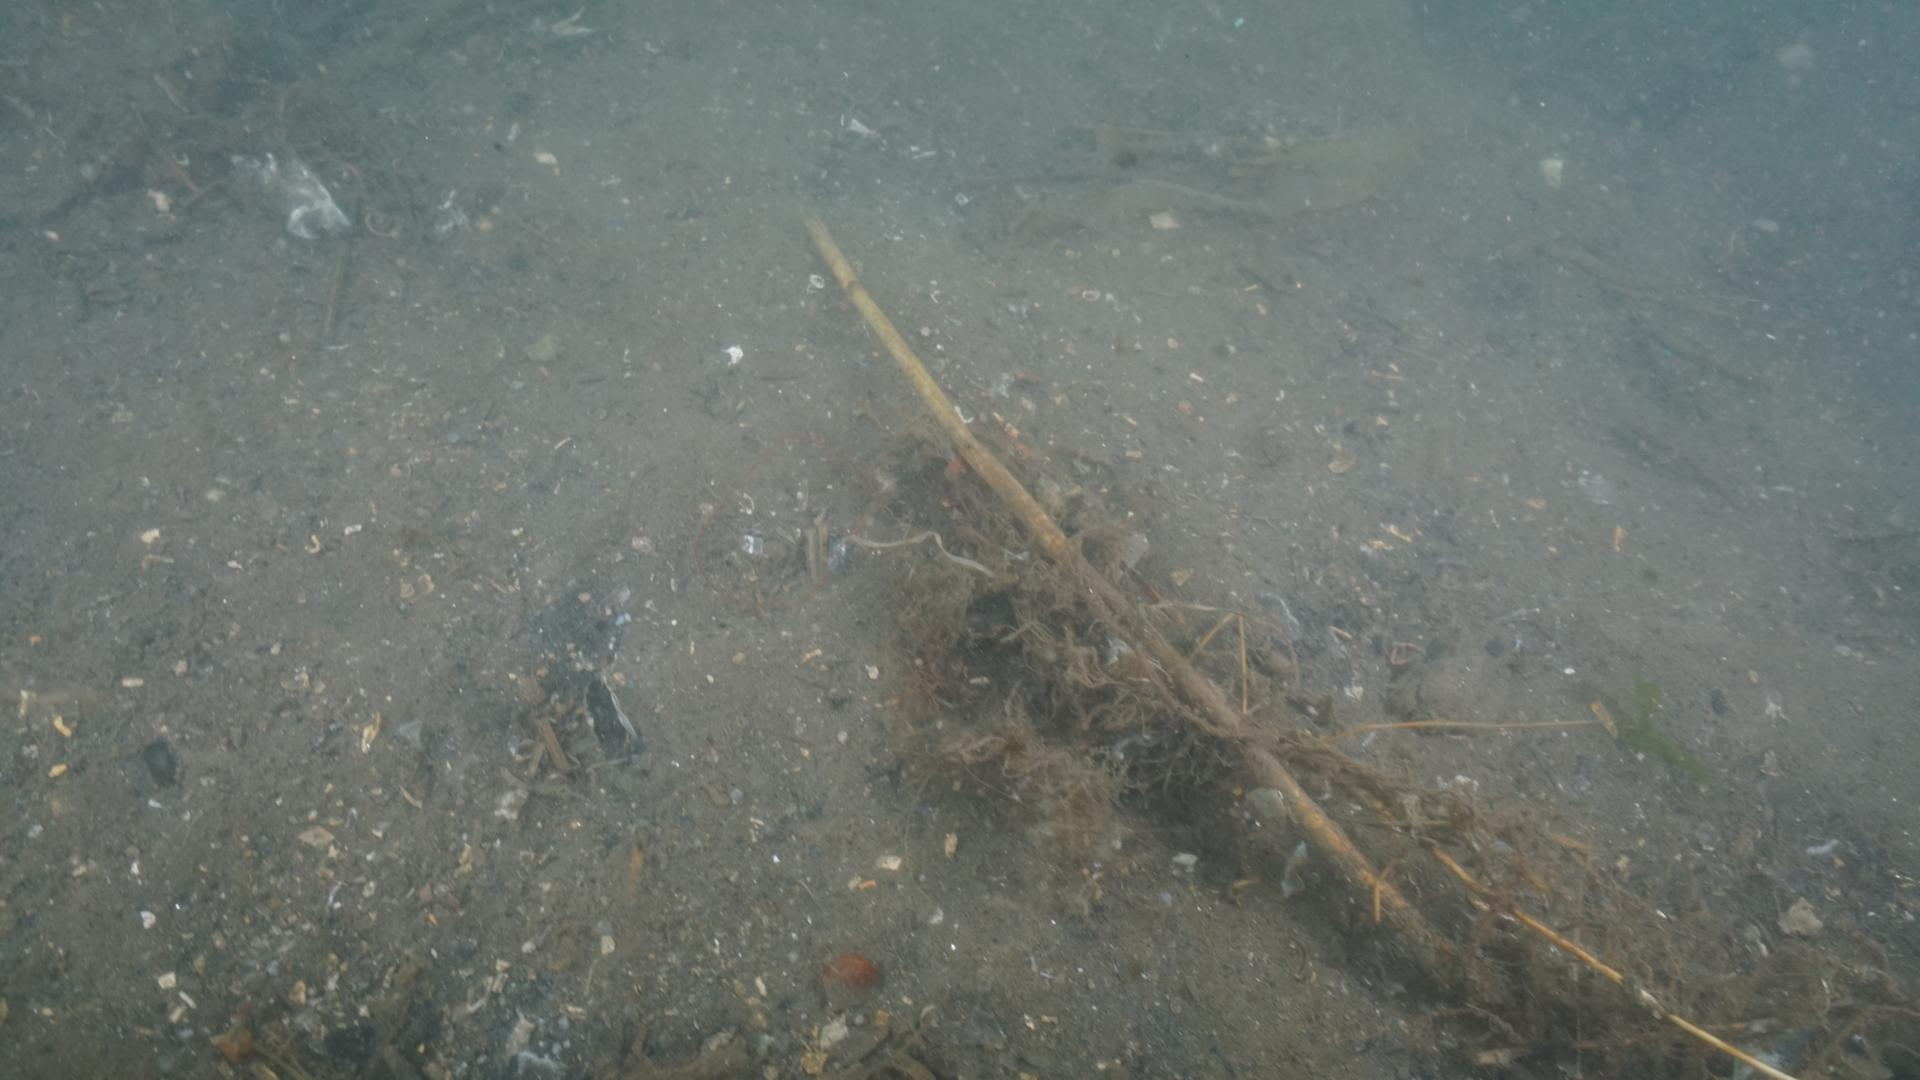wood: (796, 208, 1469, 996)
